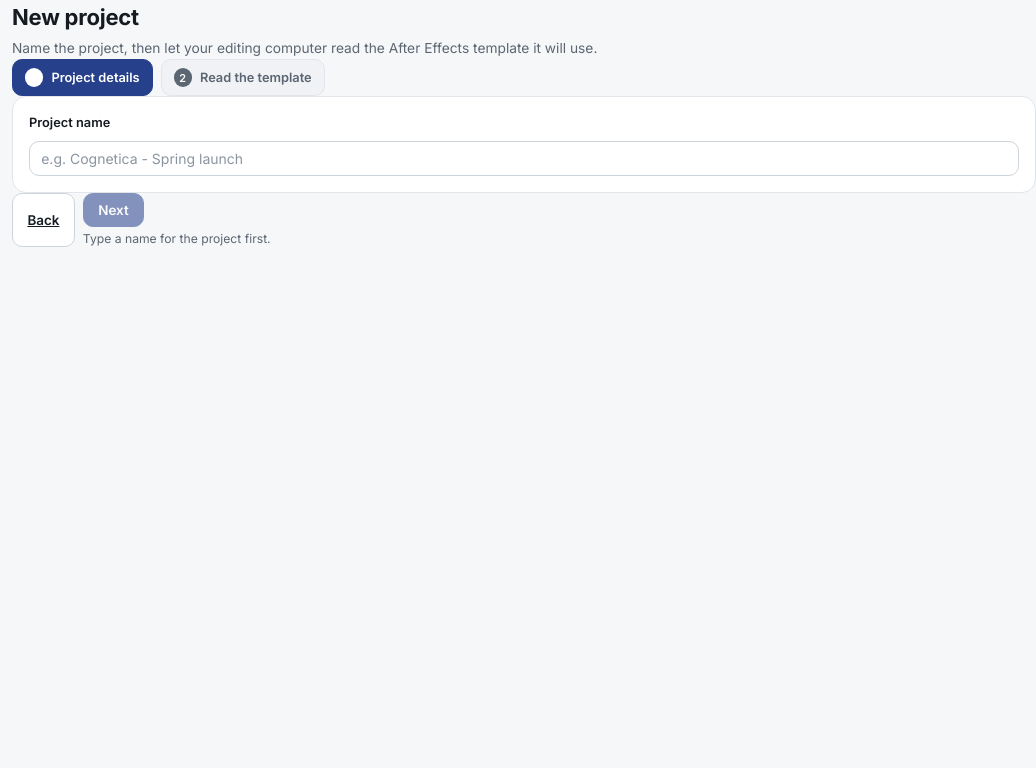
Scenario: NewProjectWizard › enables Inspect Template for a real, full .aep file path (case-insensitive extension)
This screenshot has width=1036, height=768.
Type "Real Project" into the field labelled "Project name".
click(524, 158); type("Real Project")  # box [29, 141, 1019, 176]
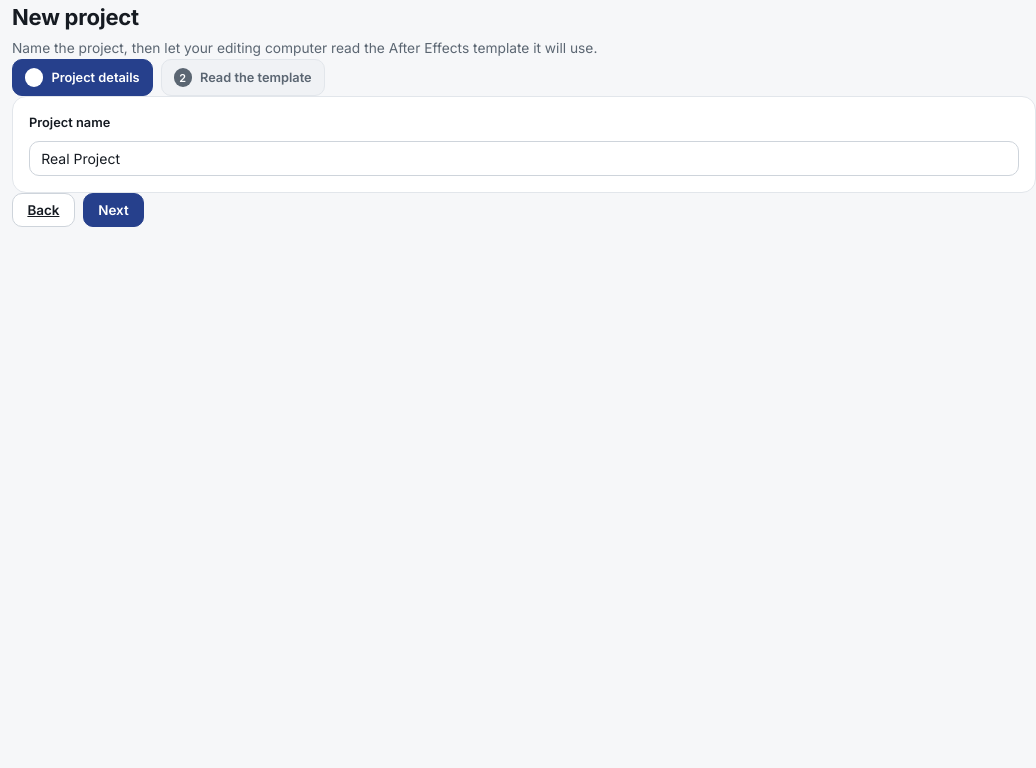
Click the button "Next".
click(113, 210)  # box [83, 193, 144, 227]
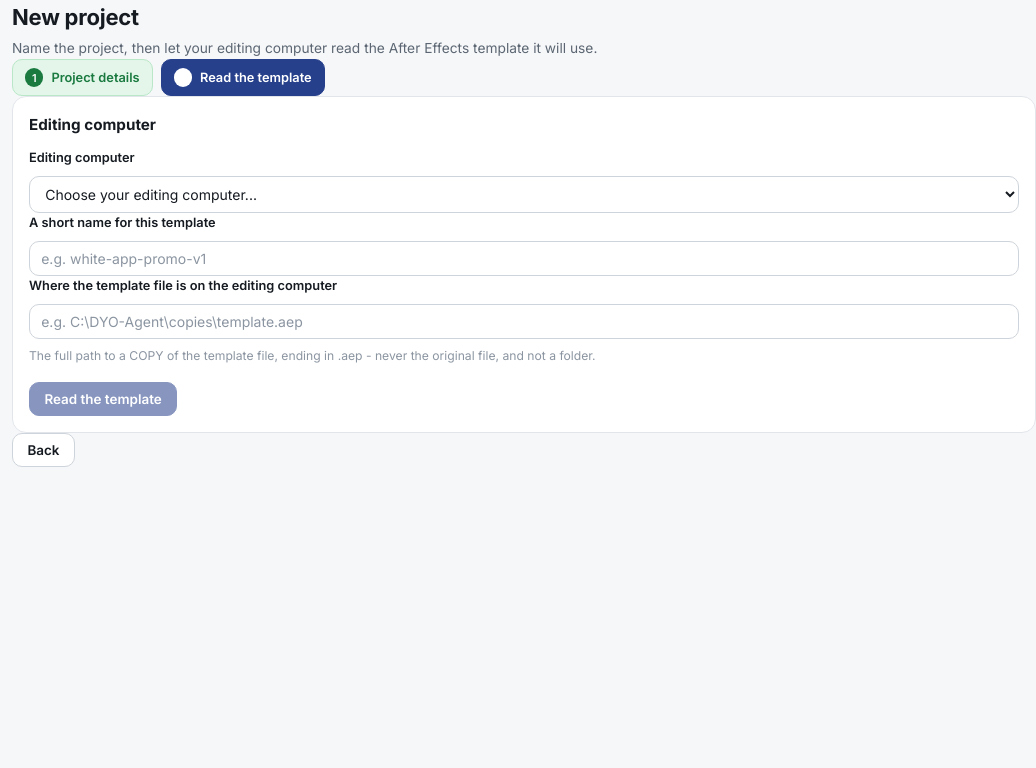
Expected: the dropdown is shown
Select "worker-a" in the dropdown at (524, 195), box [29, 176, 1019, 213]
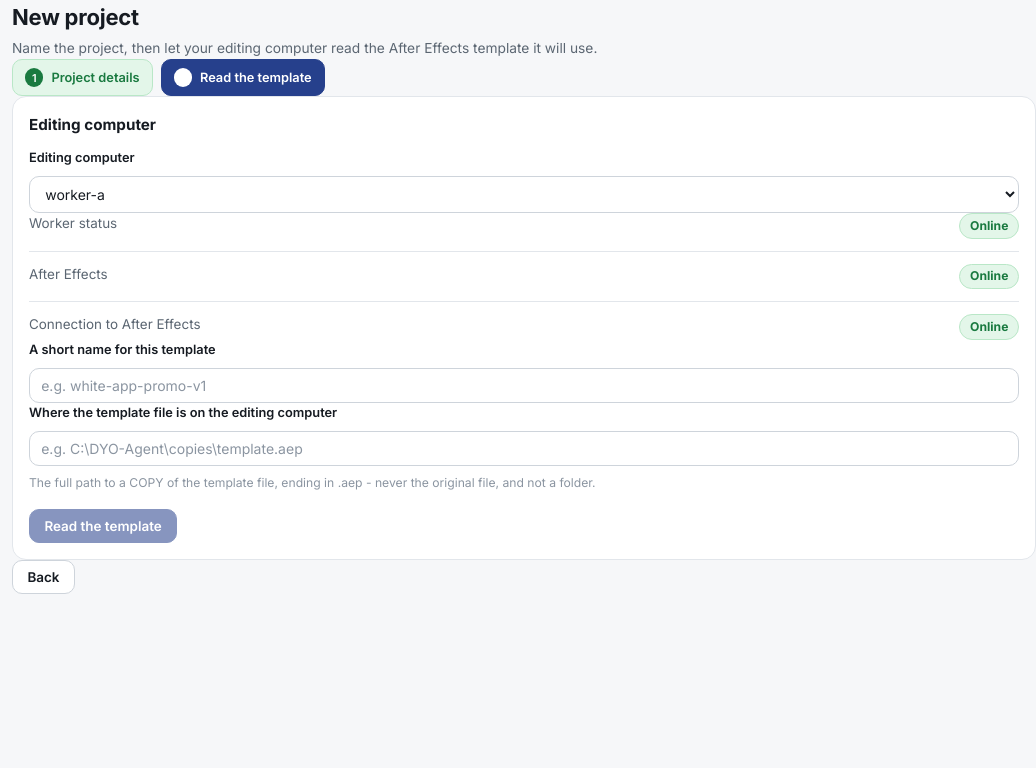
Type "tmpl-1" into the field labelled "A short name for this template".
click(524, 385); type("tmpl-1")  # box [29, 368, 1019, 403]
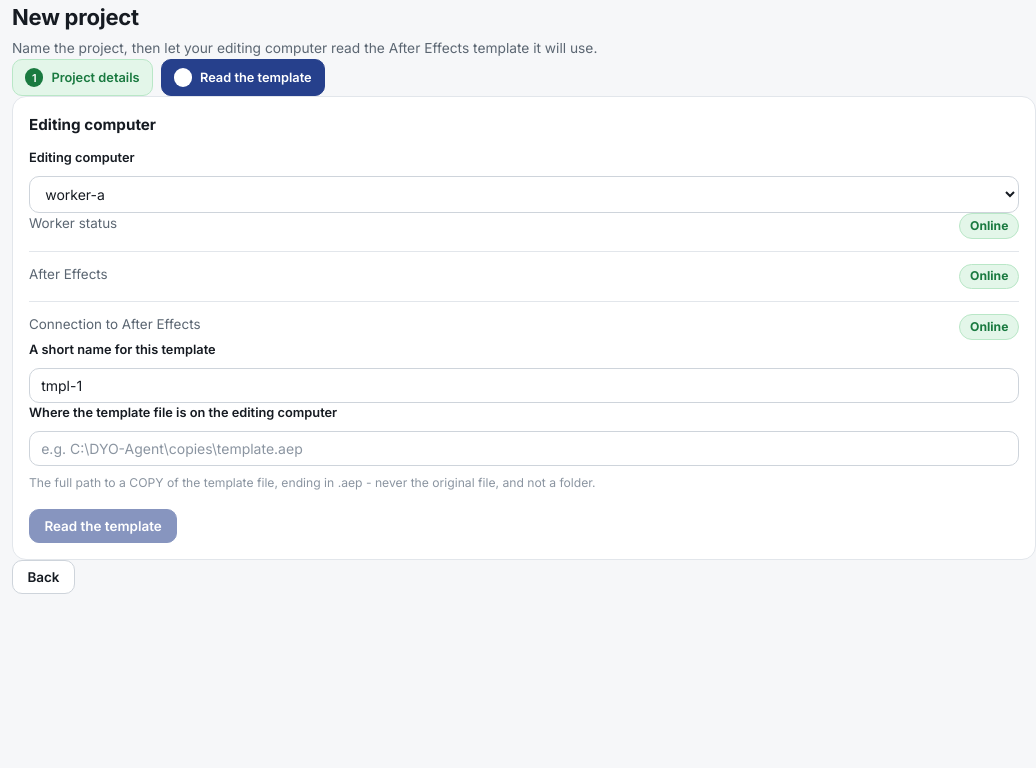
Type "C:\\DYO-Agent\\copy\\White App Promo.AEP" into the field labelled "Where the template file is on the editing computer".
click(524, 448); type("C:\\DYO-Agent\\copy\\White App Promo.AEP")  # box [29, 431, 1019, 466]
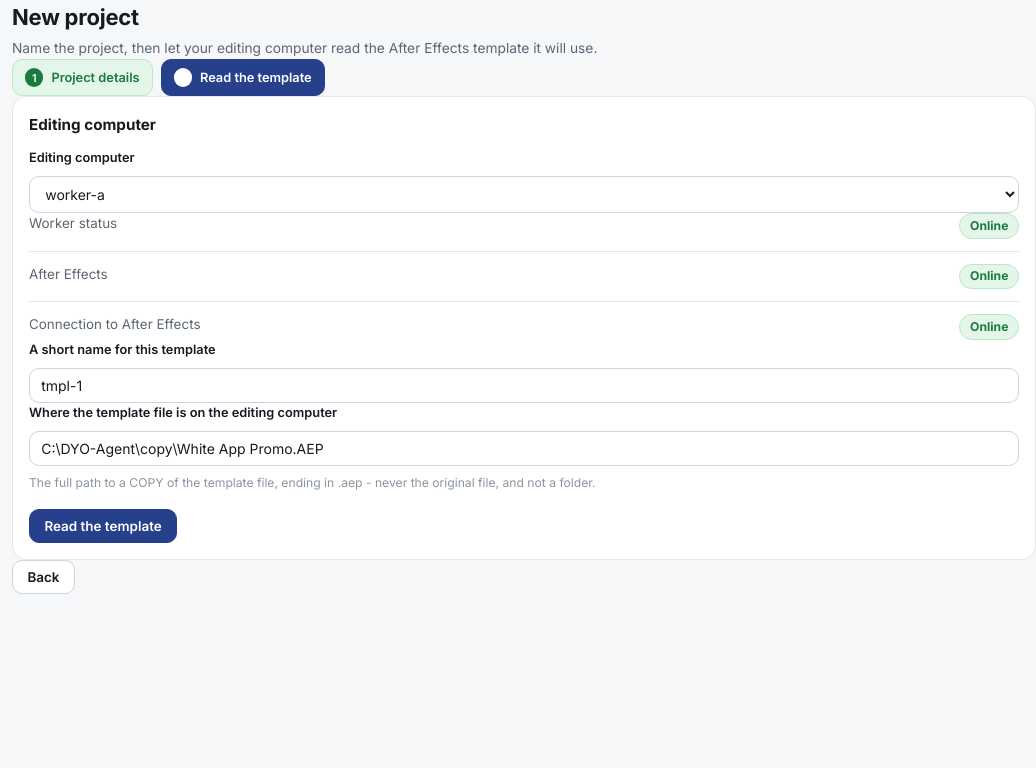
Expected: the button "Read the template" is enabled, [29, 508, 177, 543]
